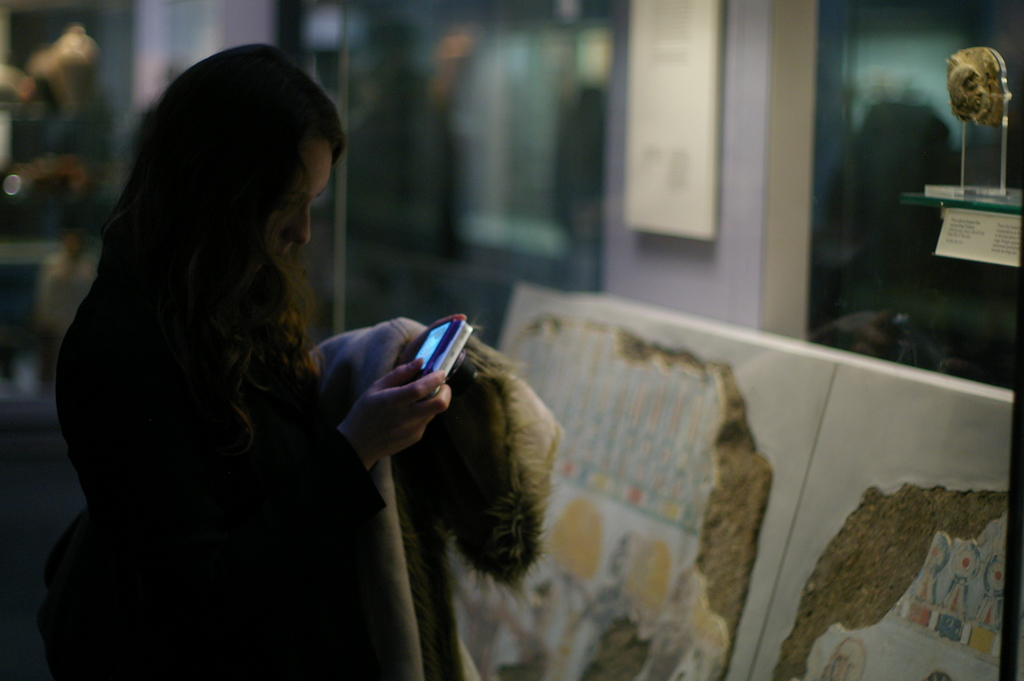Mobile-phone: (400, 315, 490, 403)
